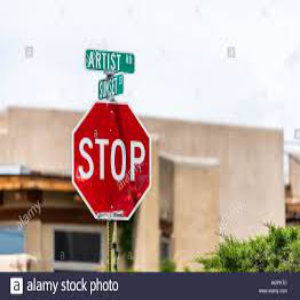STOP_SIGN: (71, 101, 151, 219)
